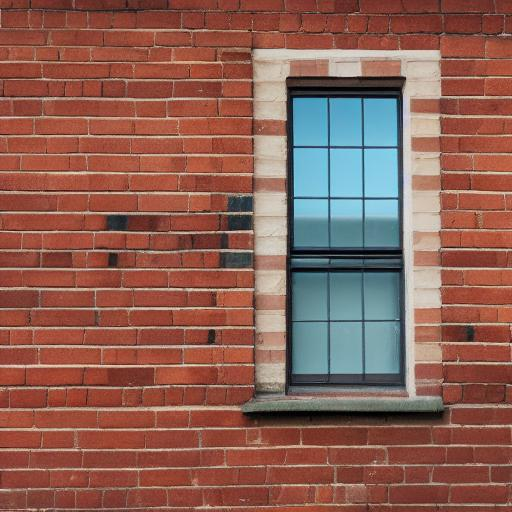Window: (242, 49, 448, 419)
